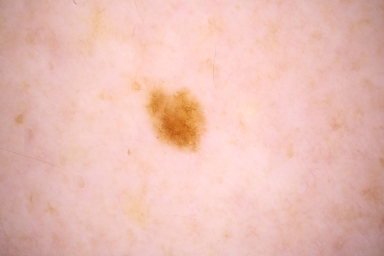melanoma: (150, 90, 203, 147)
